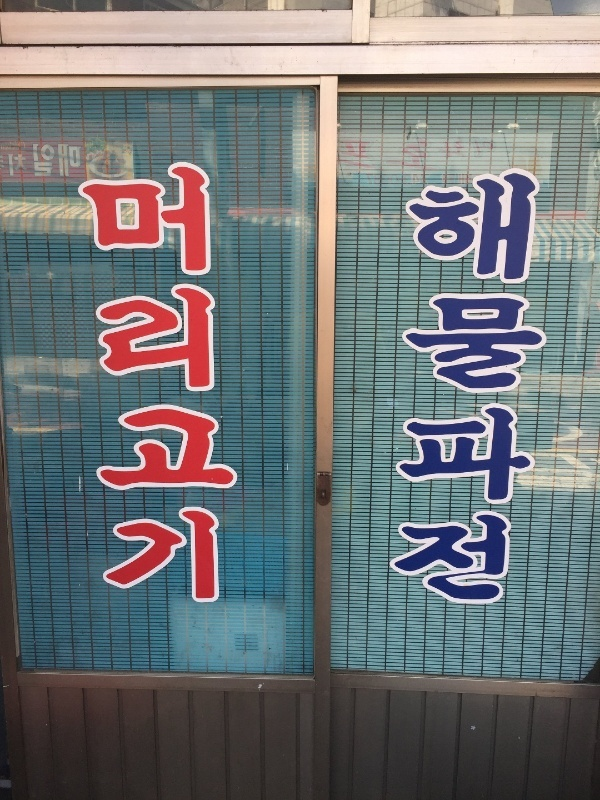text: (81, 157, 96, 614), (97, 157, 112, 614), (113, 157, 128, 614), (129, 157, 144, 614), (145, 157, 160, 614), (161, 157, 176, 614), (177, 157, 192, 614), (193, 157, 208, 614), (209, 157, 224, 614), (225, 157, 240, 614), (417, 174, 432, 622), (433, 174, 448, 622), (449, 174, 464, 622), (465, 174, 480, 622), (481, 174, 496, 622), (497, 174, 512, 622), (513, 174, 528, 622), (529, 174, 544, 622), (406, 174, 416, 622), (241, 157, 249, 614), (545, 174, 553, 622), (76, 157, 80, 614), (17, 142, 32, 181), (33, 142, 48, 181), (49, 142, 64, 181), (65, 142, 80, 181), (7, 142, 16, 181), (81, 142, 84, 181)
